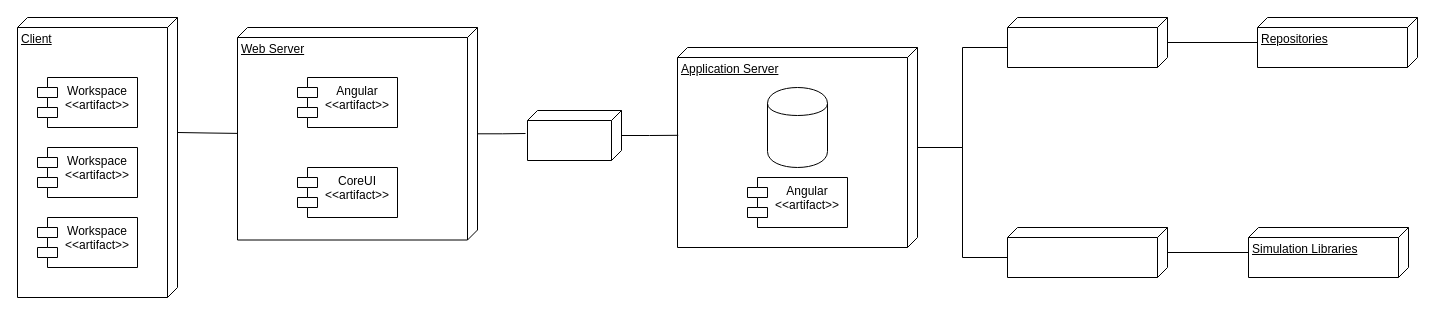
The diagram is 1435 pixels wide and 315 high, and some of its shapes have lost their labels. The shapes that lost their labels are listed below. From the top down, each one's centre as x and y in pixels, then its label:
(1087,42): Data Repositories API
(574,135): Fast API
(797,127): sqlite database
(1087,252): Simulation API
